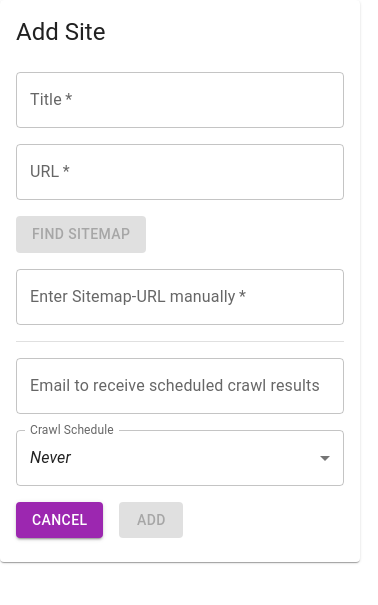
Test: SiteForm Component › displays the backend message when finding a sitemap fails
The width and height of the screenshot is (378, 605).
In the field labelled "URL *": (180, 172) [16,144,344,200], type "https://newsite.com"
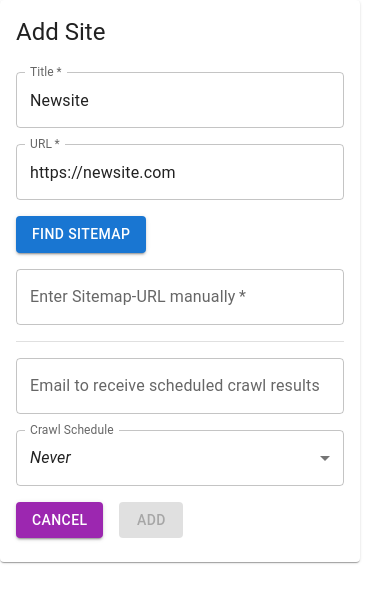
Click the button "Find Sitemap": (81, 234) [16,216,146,252]
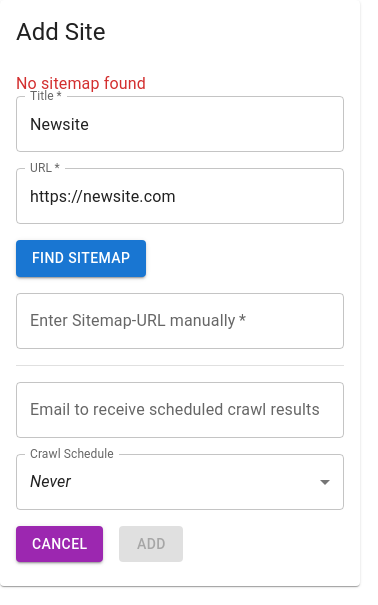
Expected: the text "No sitemap found" is shown, [16,74,146,93]
